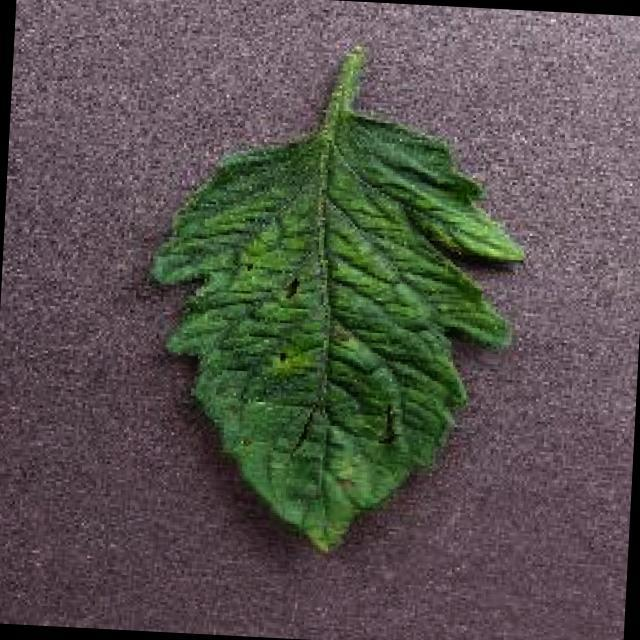Tomato mosaic virus leaf: (133, 103, 534, 567)
